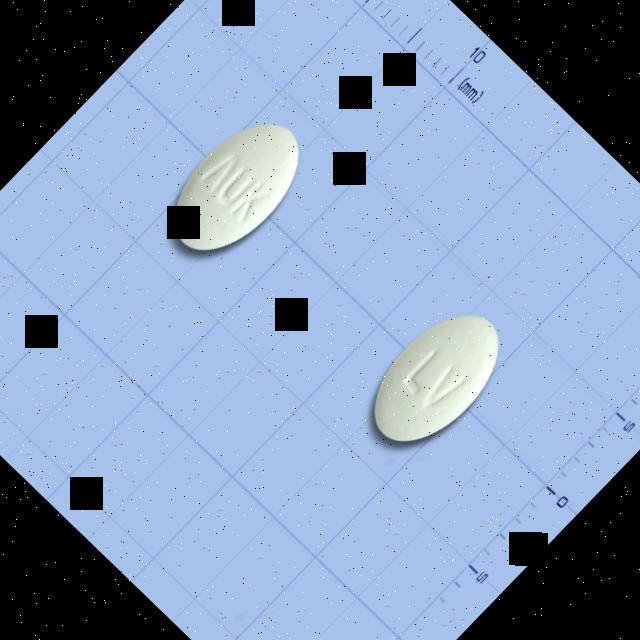Levox: (152, 100, 324, 274), (352, 292, 522, 463)
